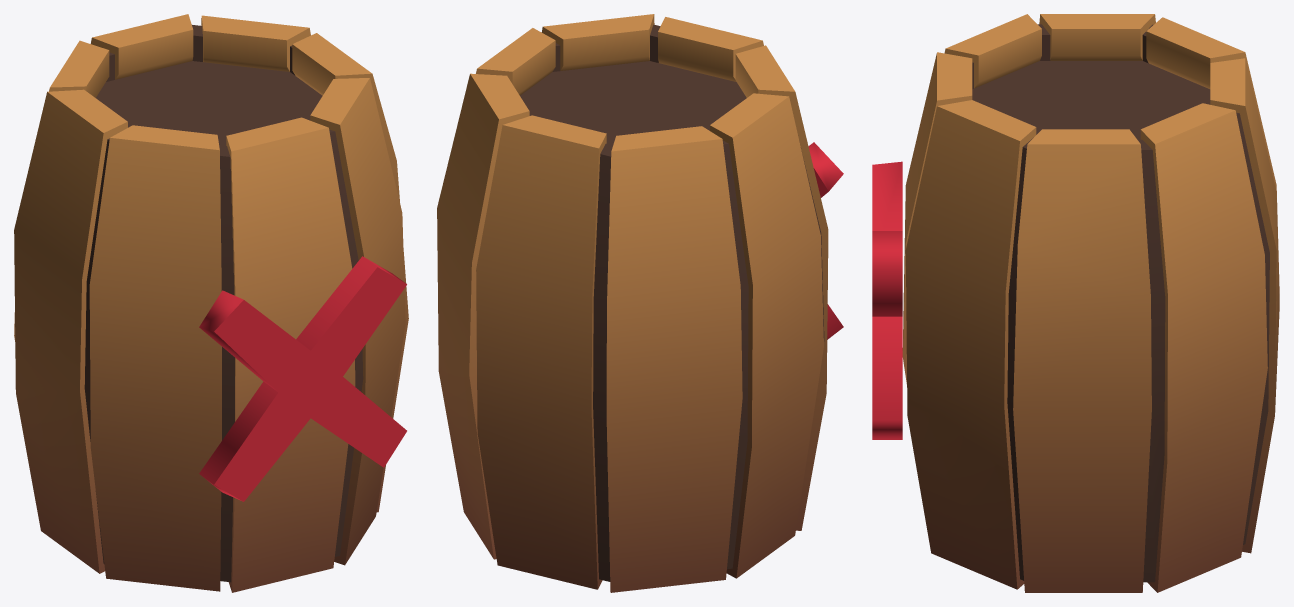
3 renders of one model, left to right at view 1: azimuth 30°, elevation 25°; view 2: azimuth 150°, elevation 25°; view 3: azimuth 270°, elevation 25°, orthographic.
Visible parts, largest first — view 1: LOD 1_4746937021995407784_ff341511bebd94b45835b85c6ba3315b; view 2: LOD 1_4746937021995407784_ff341511bebd94b45835b85c6ba3315b; view 3: LOD 1_4746937021995407784_ff341511bebd94b45835b85c6ba3315b.
Boxes of the visible parts, x1=… form: LOD 1_4746937021995407784_ff341511bebd94b45835b85c6ba3315b: x1=14, y1=14, x2=408, y2=592; LOD 1_4746937021995407784_ff341511bebd94b45835b85c6ba3315b: x1=437, y1=14, x2=843, y2=592; LOD 1_4746937021995407784_ff341511bebd94b45835b85c6ba3315b: x1=872, y1=14, x2=1279, y2=592.
Size of the model in its own units: 0.7621 by 0.995 by 0.8237.
